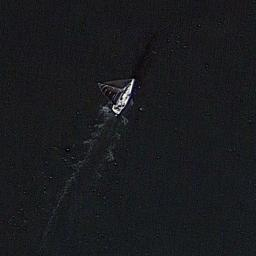boat: (98, 74, 136, 115)
